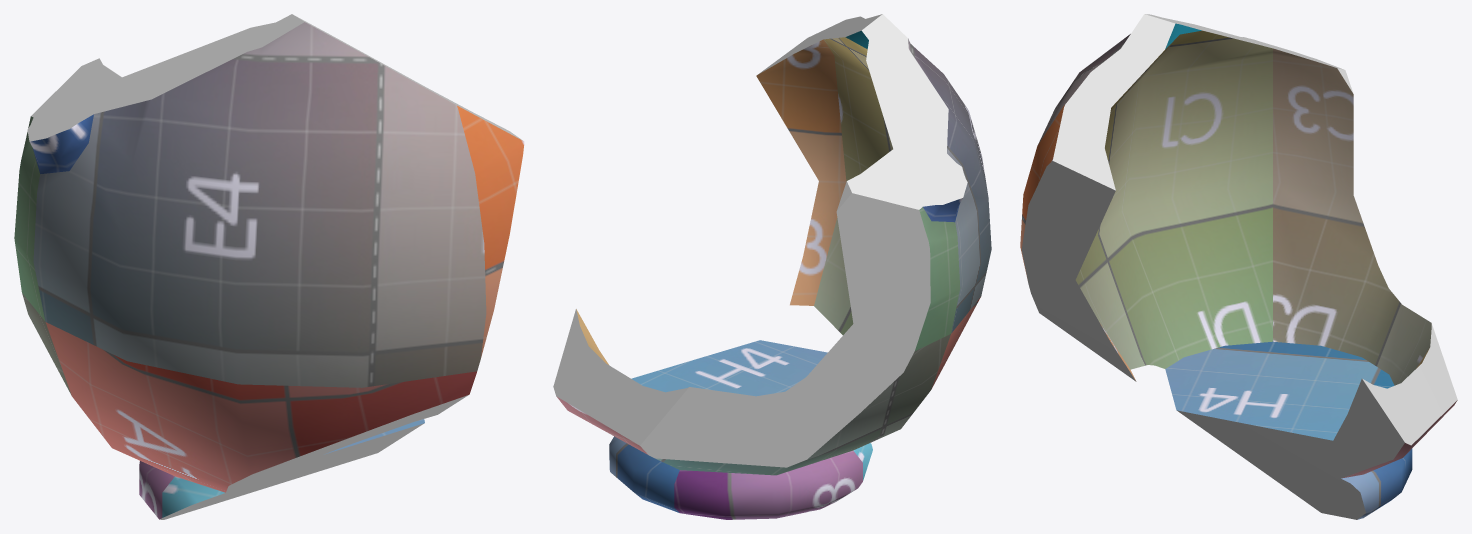
File: RoundVase_SHAT_cell_013.fbx
The picture shows the model from 3 angles, left to right: view 1: azimuth 30°, elevation 25°; view 2: azimuth 150°, elevation 25°; view 3: azimuth 270°, elevation 25°; orthographic projection. The views are drawn at different scales.
Visible parts, largest first — view 1: RoundVase_SHAT_cell_013; view 2: RoundVase_SHAT_cell_013; view 3: RoundVase_SHAT_cell_013.
Boxes of the visible parts, x1=… form: RoundVase_SHAT_cell_013: x1=14, y1=14, x2=524, y2=519; RoundVase_SHAT_cell_013: x1=553, y1=14, x2=991, y2=519; RoundVase_SHAT_cell_013: x1=1020, y1=14, x2=1457, y2=519.
Size of the model in its own units: 0.7826 by 0.9217 by 0.8529.
2 materials, 1 textured.
